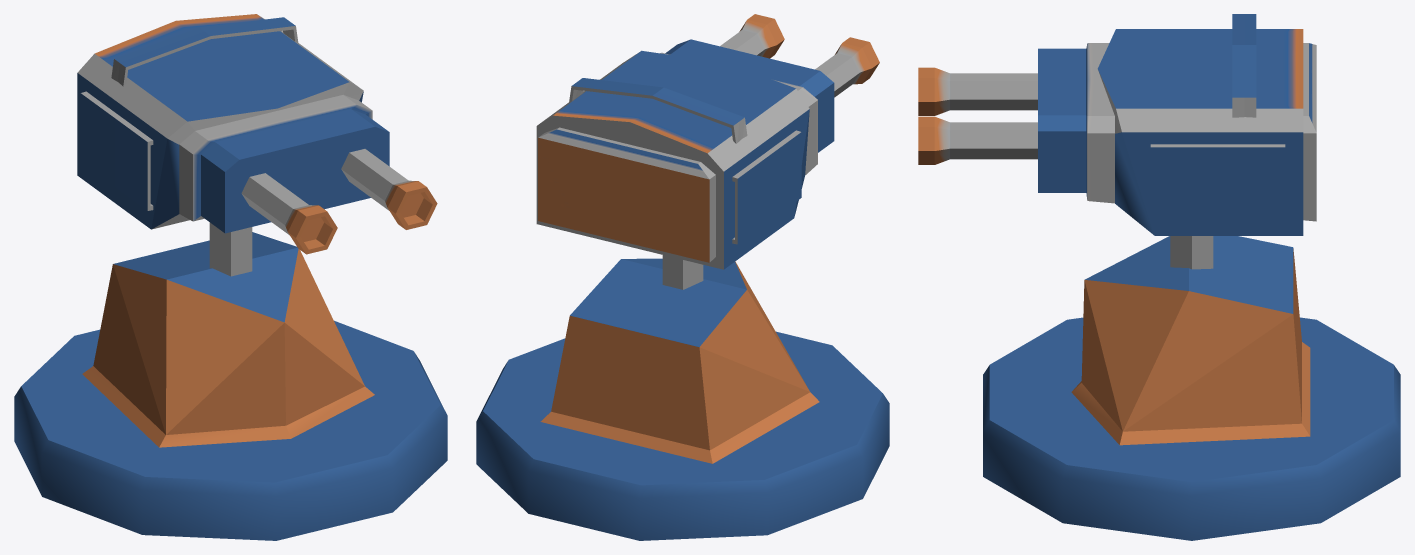
File: MachineGun.FBX
3 views of the same model, side by side, from view 1: azimuth 30°, elevation 25°; view 2: azimuth 150°, elevation 25°; view 3: azimuth 270°, elevation 25° (orthographic). The views are drawn at different scales.
Visible parts, largest first — view 1: Body, Head; view 2: Body, Head; view 3: Body, Head.
Part boxes in pixels (box(x1,y1,x2,y2)): Body: box(14, 222, 447, 540); Head: box(77, 14, 437, 254); Body: box(476, 255, 889, 540); Head: box(536, 14, 879, 269); Body: box(983, 236, 1400, 540); Head: box(918, 14, 1316, 235).
Size of the model in its own units: 0.9616 by 0.9739 by 1.06.
Materials: 1 (1 with a texture image).
